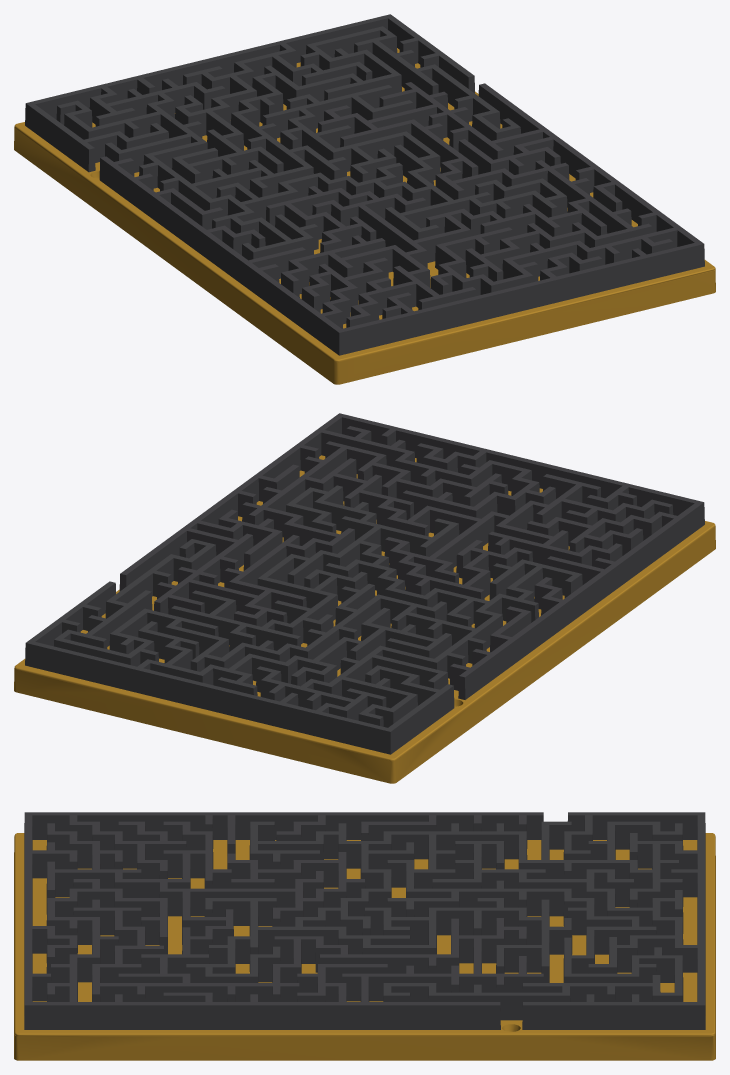
Rendered from laberinto_P2.glb.
The picture shows the model from 3 angles, top to bottom: view 1: azimuth 30°, elevation 25°; view 2: azimuth 150°, elevation 25°; view 3: azimuth 270°, elevation 25°; orthographic projection. The views are drawn at different scales.
Parts seen in each view (by area): view 1: Object_3, Object_2, Object_4; view 2: Object_2, Object_3, Object_4; view 3: Object_3, Object_2, Object_4.
Part boxes in pixels (bbox=[...]): Object_3: bbox=[99, 82, 704, 355]; Object_2: bbox=[25, 14, 567, 260]; Object_4: bbox=[14, 48, 715, 384]; Object_2: bbox=[25, 485, 582, 754]; Object_3: bbox=[119, 413, 704, 699]; Object_4: bbox=[14, 455, 715, 783]; Object_3: bbox=[24, 812, 543, 1029]; Object_2: bbox=[186, 812, 705, 1029]; Object_4: bbox=[14, 833, 715, 1060].
Bounding box in the file's own units: 197 × 23.1 × 289.
